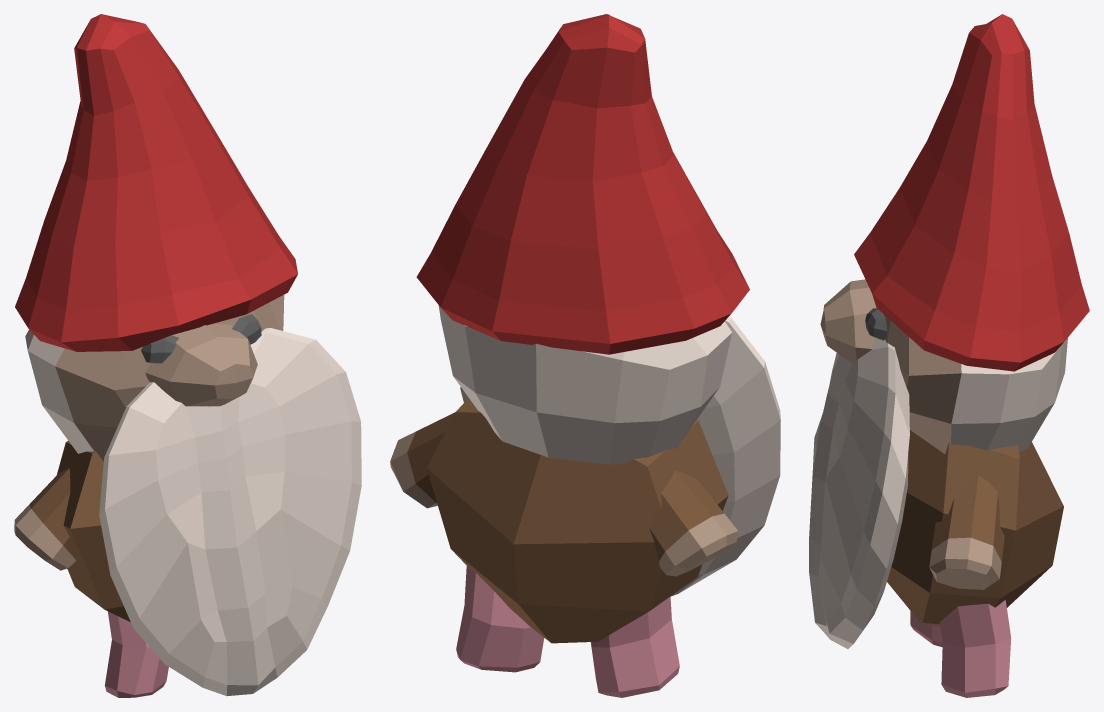
File: Toy_Gnome.fbx
3 renders of one model, left to right at view 1: azimuth 30°, elevation 25°; view 2: azimuth 150°, elevation 25°; view 3: azimuth 270°, elevation 25°, orthographic. The views are drawn at different scales.
Parts seen in each view (by area): view 1: Toy_Gnome; view 2: Toy_Gnome; view 3: Toy_Gnome.
Boxes of the visible parts, x1,y1,x2,y2 form: Toy_Gnome: (14, 14, 361, 697); Toy_Gnome: (390, 14, 780, 697); Toy_Gnome: (809, 14, 1089, 697).
Size of the model in its own units: 24.93 by 20.16 by 49.55.
